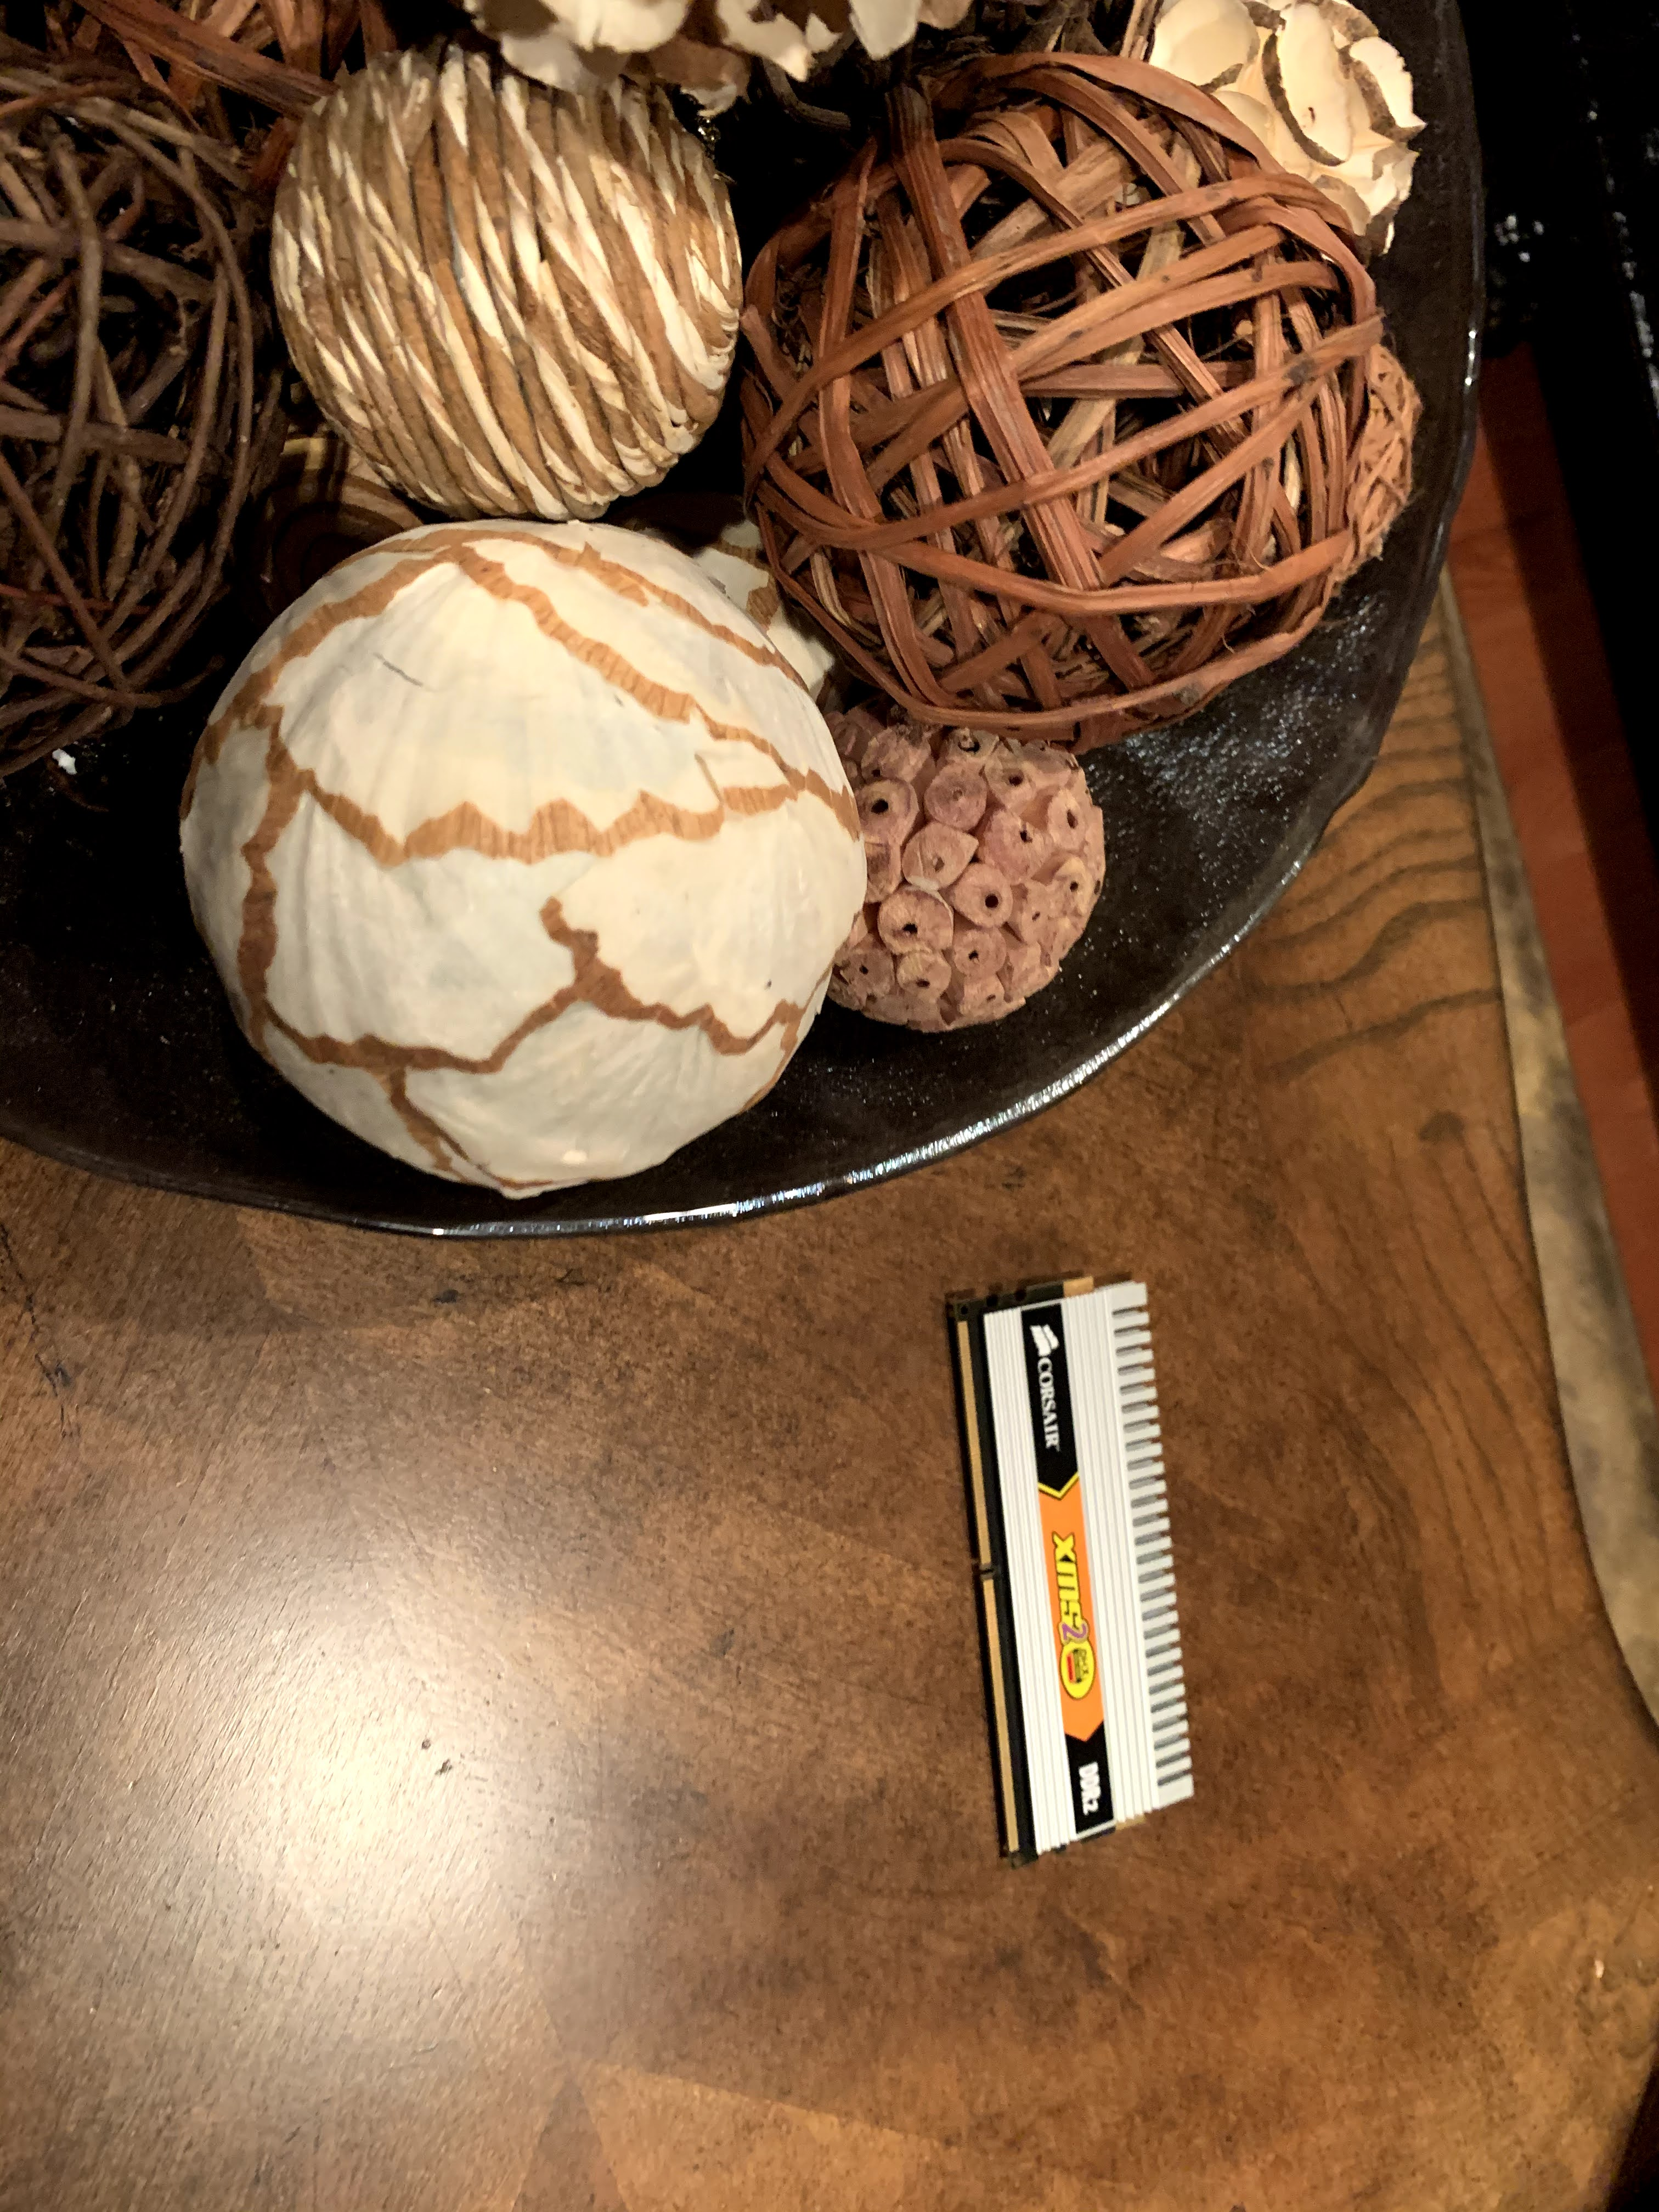Space-debris-medium: (936, 1254, 1260, 1864)
